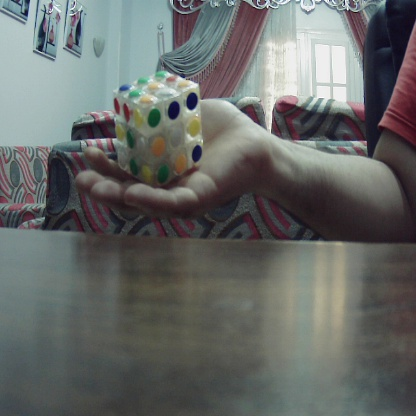Rubix Cube: (113, 73, 204, 185)
